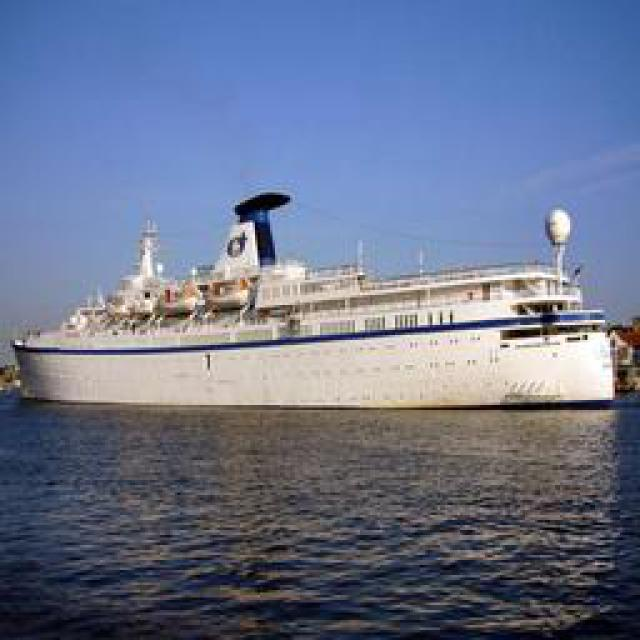Ship: (7, 200, 630, 413)
